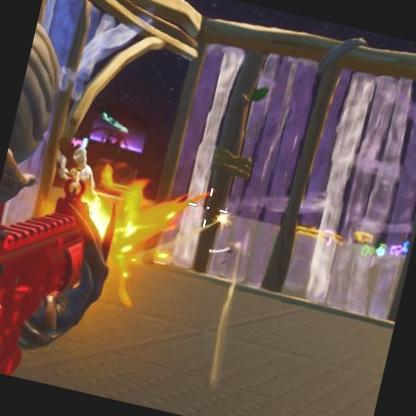person: (57, 150, 96, 198)
